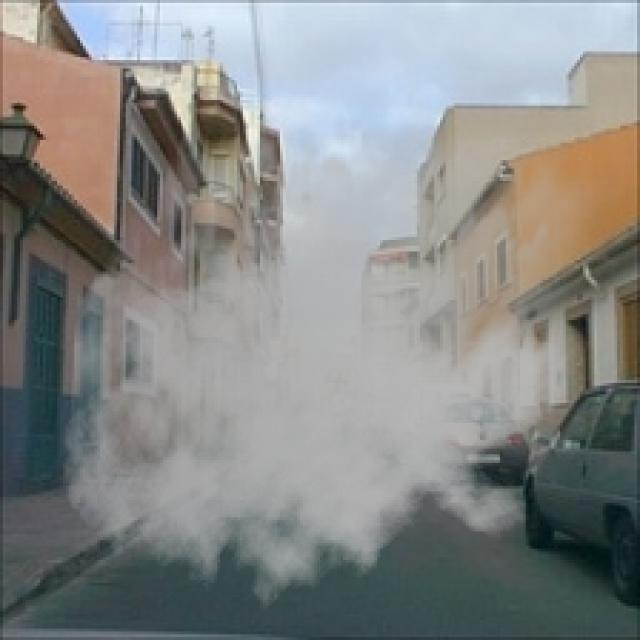Smoke: (60, 65, 620, 626)
